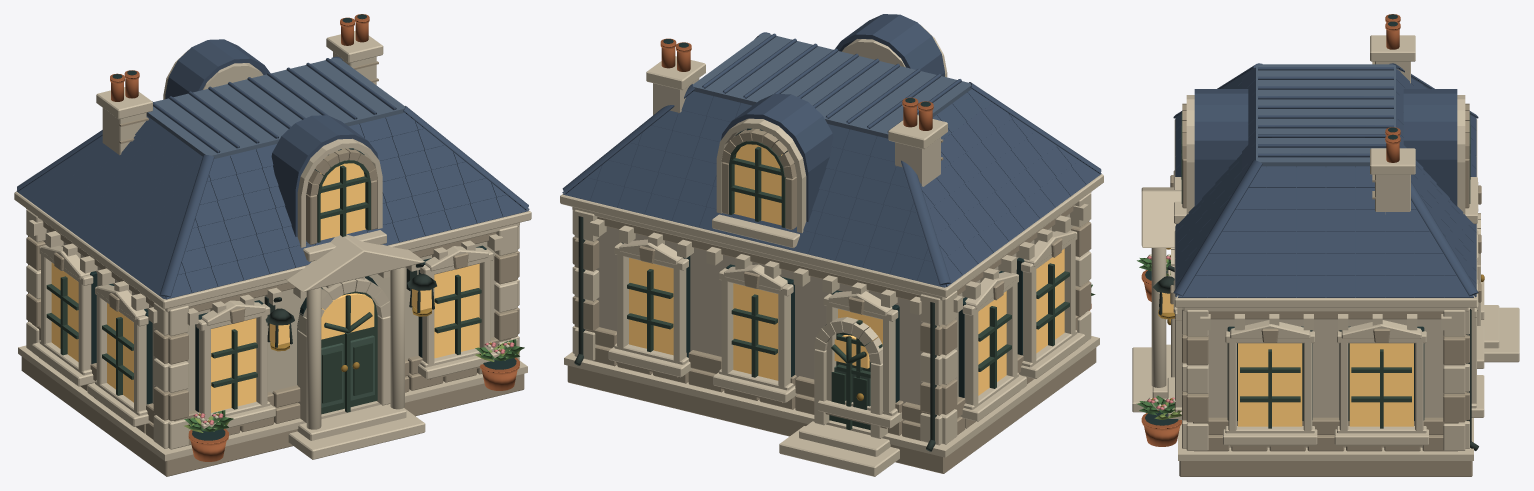
3 views of the same model, side by side, from view 1: azimuth 30°, elevation 25°; view 2: azimuth 150°, elevation 25°; view 3: azimuth 270°, elevation 25° (orthographic). The views are drawn at different scales.
Visible parts, largest first — view 1: classic_hotel_1_geometry, classic_hotel_1_geometry ceramic; view 2: classic_hotel_1_geometry, classic_hotel_1_geometry ceramic; view 3: classic_hotel_1_geometry, classic_hotel_1_geometry ceramic.
Boxes of the visible parts, x1=… form: classic_hotel_1_geometry: x1=14, y1=14, x2=531, y2=476; classic_hotel_1_geometry ceramic: x1=16, y1=39, x2=529, y2=299; classic_hotel_1_geometry: x1=560, y1=25, x2=1103, y2=476; classic_hotel_1_geometry ceramic: x1=562, y1=14, x2=1101, y2=287; classic_hotel_1_geometry: x1=1132, y1=14, x2=1519, y2=476; classic_hotel_1_geometry ceramic: x1=1173, y1=63, x2=1478, y2=297.
Bounding box in the file's own units: 0.99 × 0.7712 × 0.8667.
